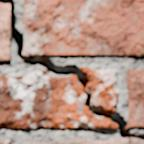brick: (23, 0, 143, 56), (126, 70, 143, 127), (24, 138, 143, 143), (0, 5, 9, 61), (0, 140, 9, 143)
broken_brick: (0, 69, 116, 129), (80, 66, 119, 110)
crack: (0, 0, 143, 141)
